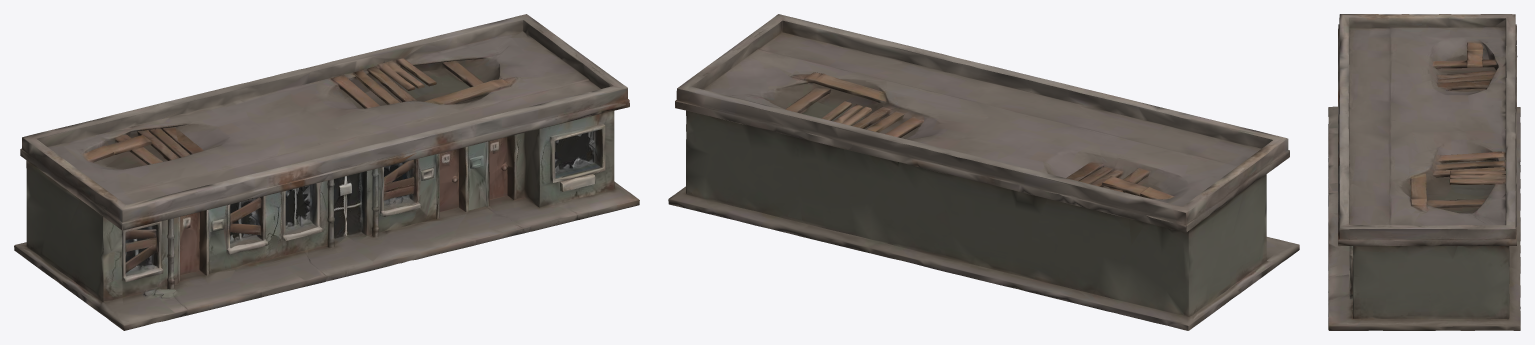
Rendered from motel_b_idle.glb.
3 views of the same model, side by side, from view 1: azimuth 30°, elevation 25°; view 2: azimuth 150°, elevation 25°; view 3: azimuth 270°, elevation 25° (orthographic). The views are drawn at different scales.
Parts seen in each view (by area): view 1: tripo_node_0aea349e-cffb-4e0b-911b-5d14825a8d46; view 2: tripo_node_0aea349e-cffb-4e0b-911b-5d14825a8d46; view 3: tripo_node_0aea349e-cffb-4e0b-911b-5d14825a8d46.
Boxes of the visible parts, x1,y1,x2,y2 form: tripo_node_0aea349e-cffb-4e0b-911b-5d14825a8d46: (14, 14, 639, 330); tripo_node_0aea349e-cffb-4e0b-911b-5d14825a8d46: (668, 14, 1299, 330); tripo_node_0aea349e-cffb-4e0b-911b-5d14825a8d46: (1328, 14, 1520, 330).
Bounding box in the file's own units: 16 × 3.4 × 5.92.
1 material, 1 textured.
